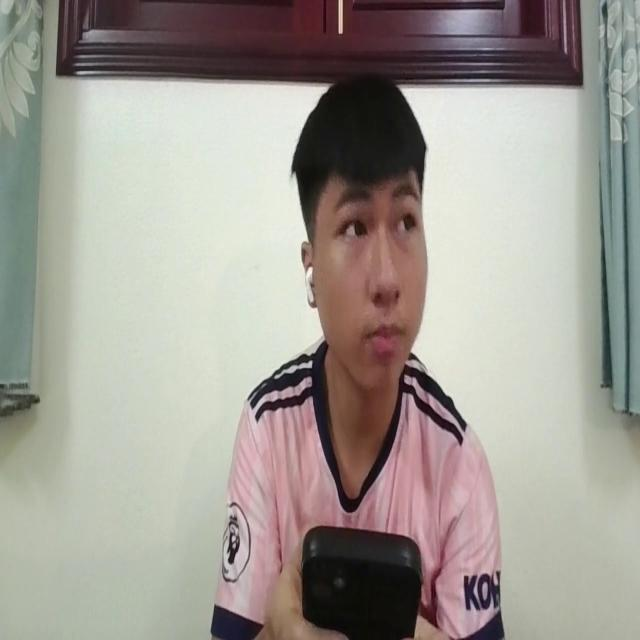phone: (301, 512, 424, 640)
student: (208, 63, 503, 640)
